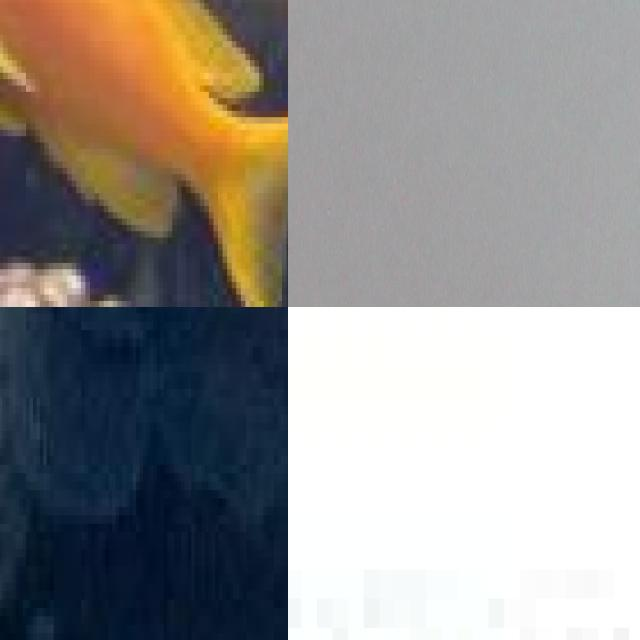fish: (288, 307, 640, 640), (0, 0, 288, 307), (288, 149, 640, 307)
